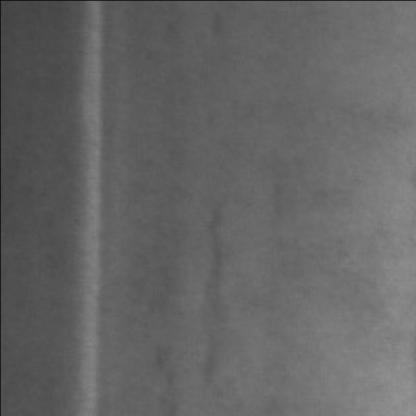inclusion: (195, 200, 242, 380)
scratches: (80, 6, 110, 416)
